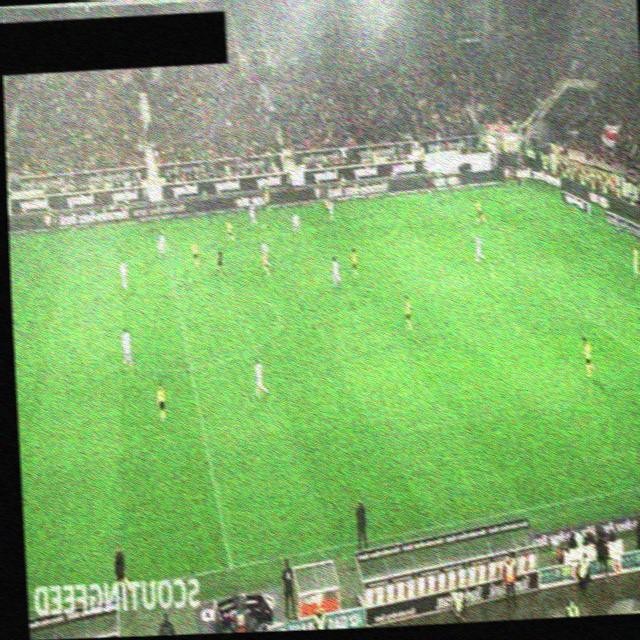bigarea_top_inner: (449, 216, 463, 229)
bigarea_top_outter: (565, 201, 578, 213)
bottom_arc_area_intersection: (558, 294, 572, 307)
corner: (516, 177, 529, 190)
halfcircle_bottom: (182, 360, 196, 372)
halfcircle_top: (168, 283, 181, 296)
midline_bottom_intersection: (223, 558, 238, 574)
midline_top_intersection: (154, 216, 167, 228)
smallarea_top_inner: (575, 232, 588, 245)
smallarea_top_outter: (615, 227, 628, 239)
top_arc_area_intersection: (492, 247, 506, 260)
